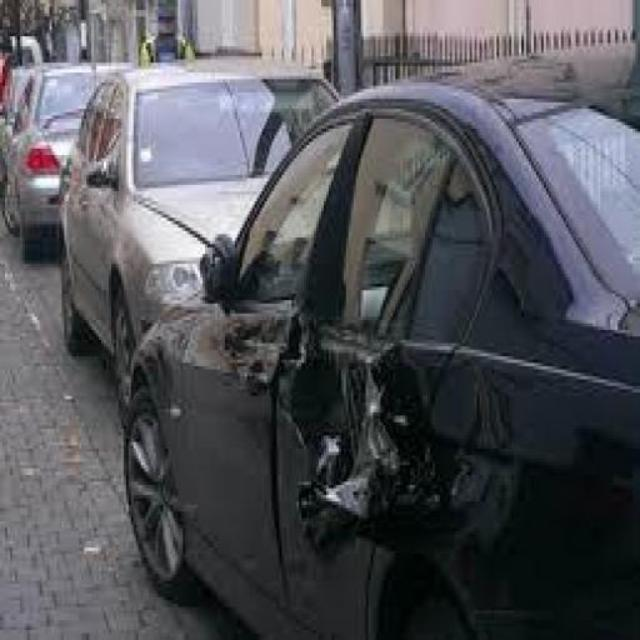dent: (186, 107, 499, 543)
